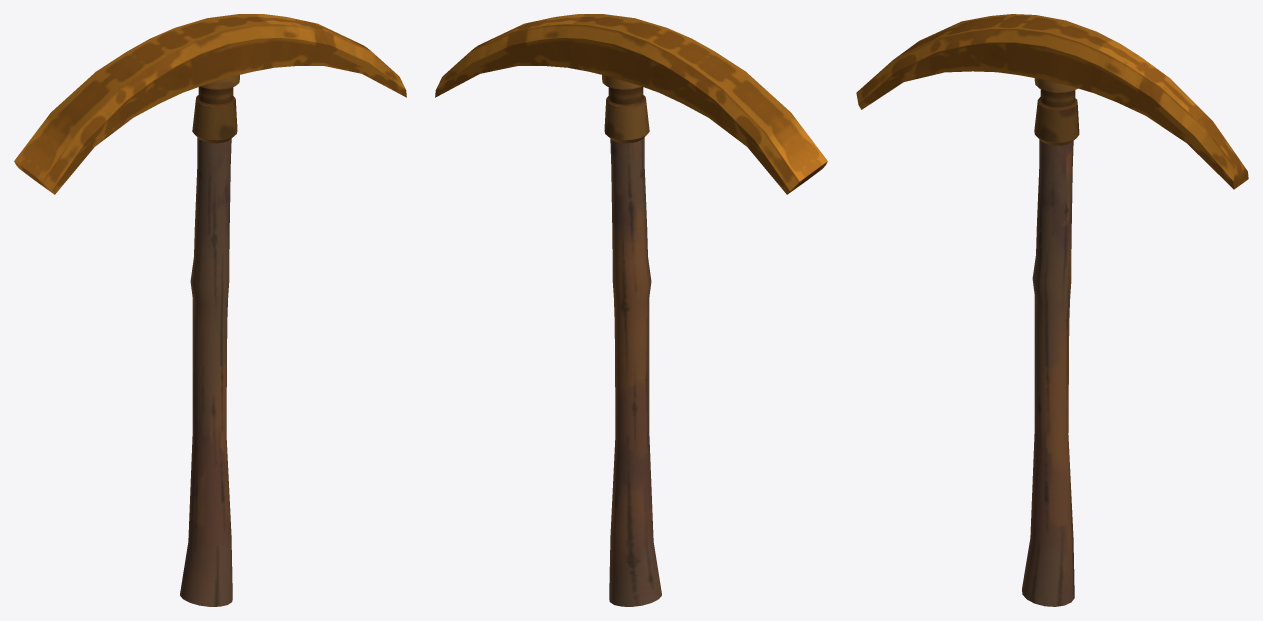
The model's file is Pickaxe_Bronze.gltf.
The picture shows the model from 3 angles, left to right: view 1: azimuth 30°, elevation 25°; view 2: azimuth 150°, elevation 25°; view 3: azimuth 330°, elevation 25°; orthographic projection.
Visible parts, largest first — view 1: Pickaxe_Bronze; view 2: Pickaxe_Bronze; view 3: Pickaxe_Bronze.
Part boxes in pixels (x1,y1,x2,y2): Pickaxe_Bronze: (14,14,406,606); Pickaxe_Bronze: (435,14,827,606); Pickaxe_Bronze: (856,14,1248,606).
Bounding box in the file's own units: 0.8128 × 1.2 × 0.1357.
1 material, 1 textured.
